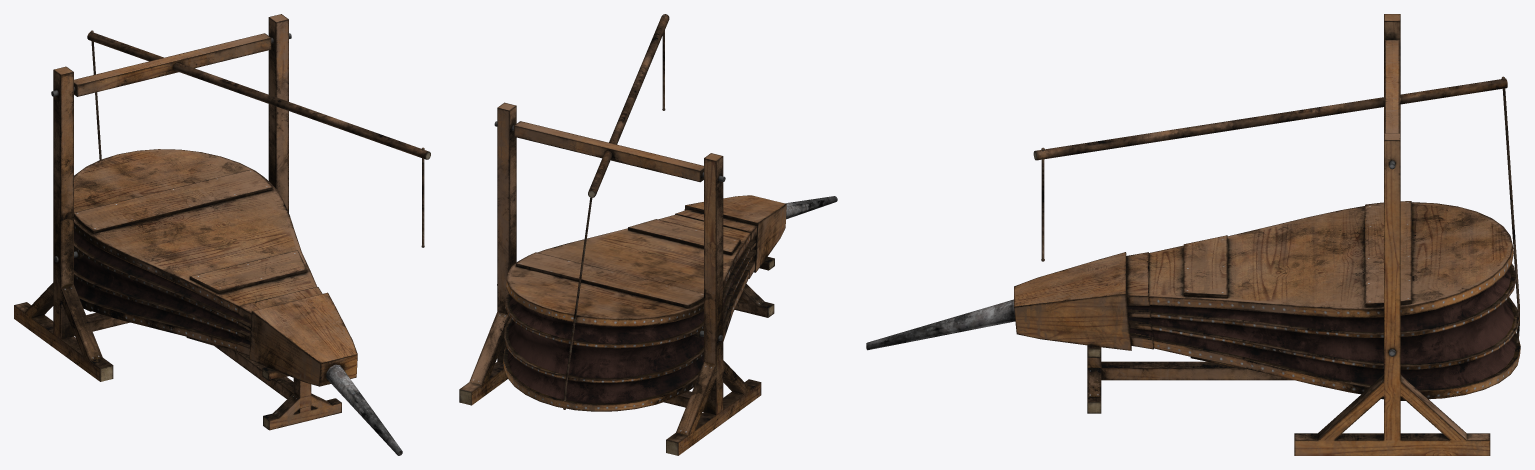
Rendered from bellows.glb.
3 views of the same model, side by side, from view 1: azimuth 30°, elevation 25°; view 2: azimuth 150°, elevation 25°; view 3: azimuth 270°, elevation 25° (orthographic). The views are drawn at different scales.
Visible parts, largest first — view 1: bellows; view 2: bellows; view 3: bellows.
Boxes of the visible parts, left/top/right/bottom form: bellows: left=14, top=14, right=430, bottom=455; bellows: left=459, top=14, right=837, bottom=455; bellows: left=866, top=14, right=1520, bottom=455.
Bounding box in the file's own units: 0.4761 × 0.5332 × 1.
1 material, 1 textured.
